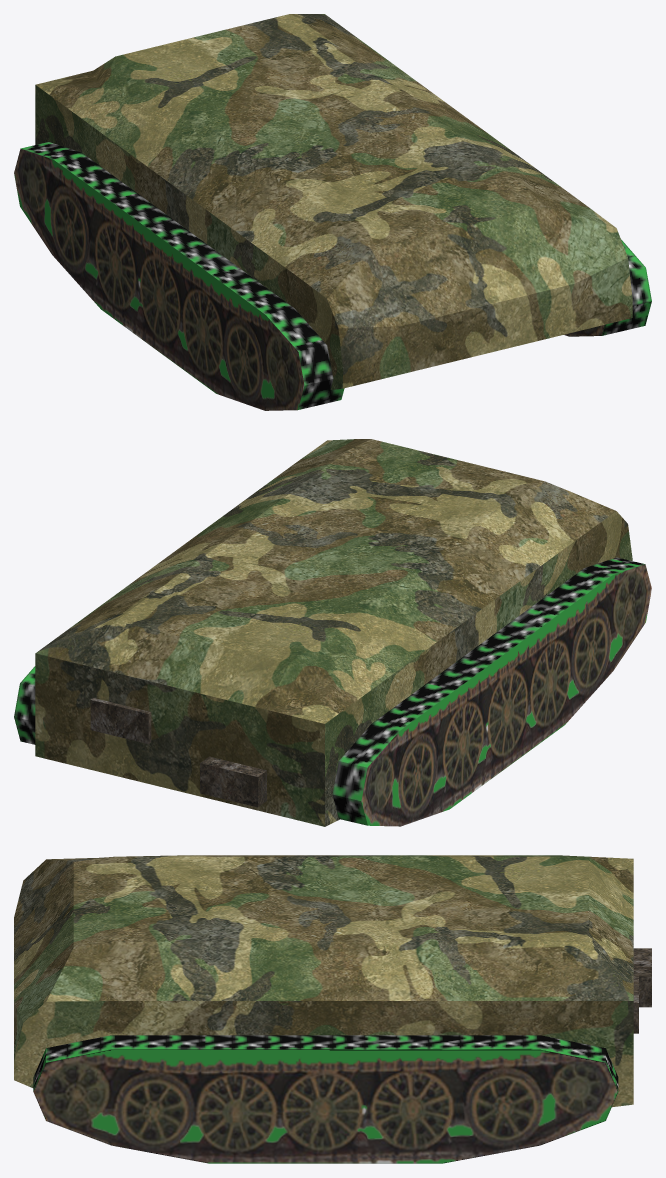
Rendered from Gbase.dae.
3 renders of one model, top to bottom at view 1: azimuth 30°, elevation 25°; view 2: azimuth 150°, elevation 25°; view 3: azimuth 270°, elevation 25°, orthographic.
Parts seen in each view (by area): view 1: Left Wheel-0; view 2: Left Wheel-0; view 3: Left Wheel-0.
Part boxes in pixels (<box>): Left Wheel-0: <box>14,14,651,410</box>; Left Wheel-0: <box>14,439,651,826</box>; Left Wheel-0: <box>14,855,651,1163</box>.
Bounding box in the file's own units: 2.41 × 1.18 × 3.79.
